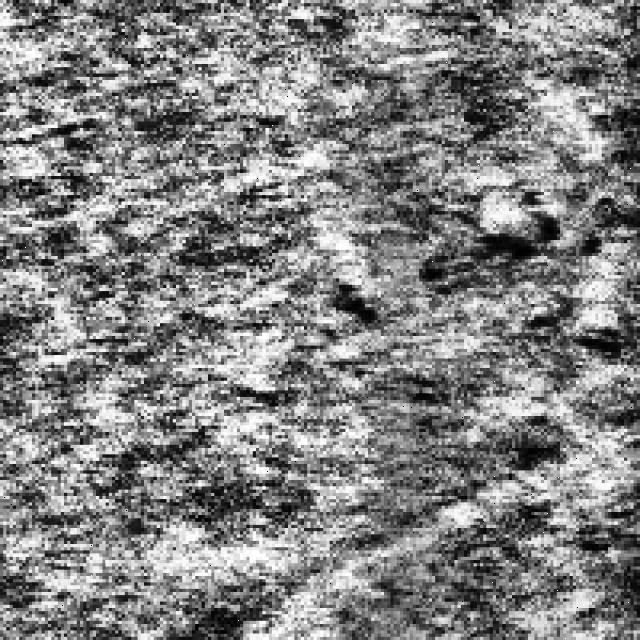Crazing: (390, 182, 621, 358)
